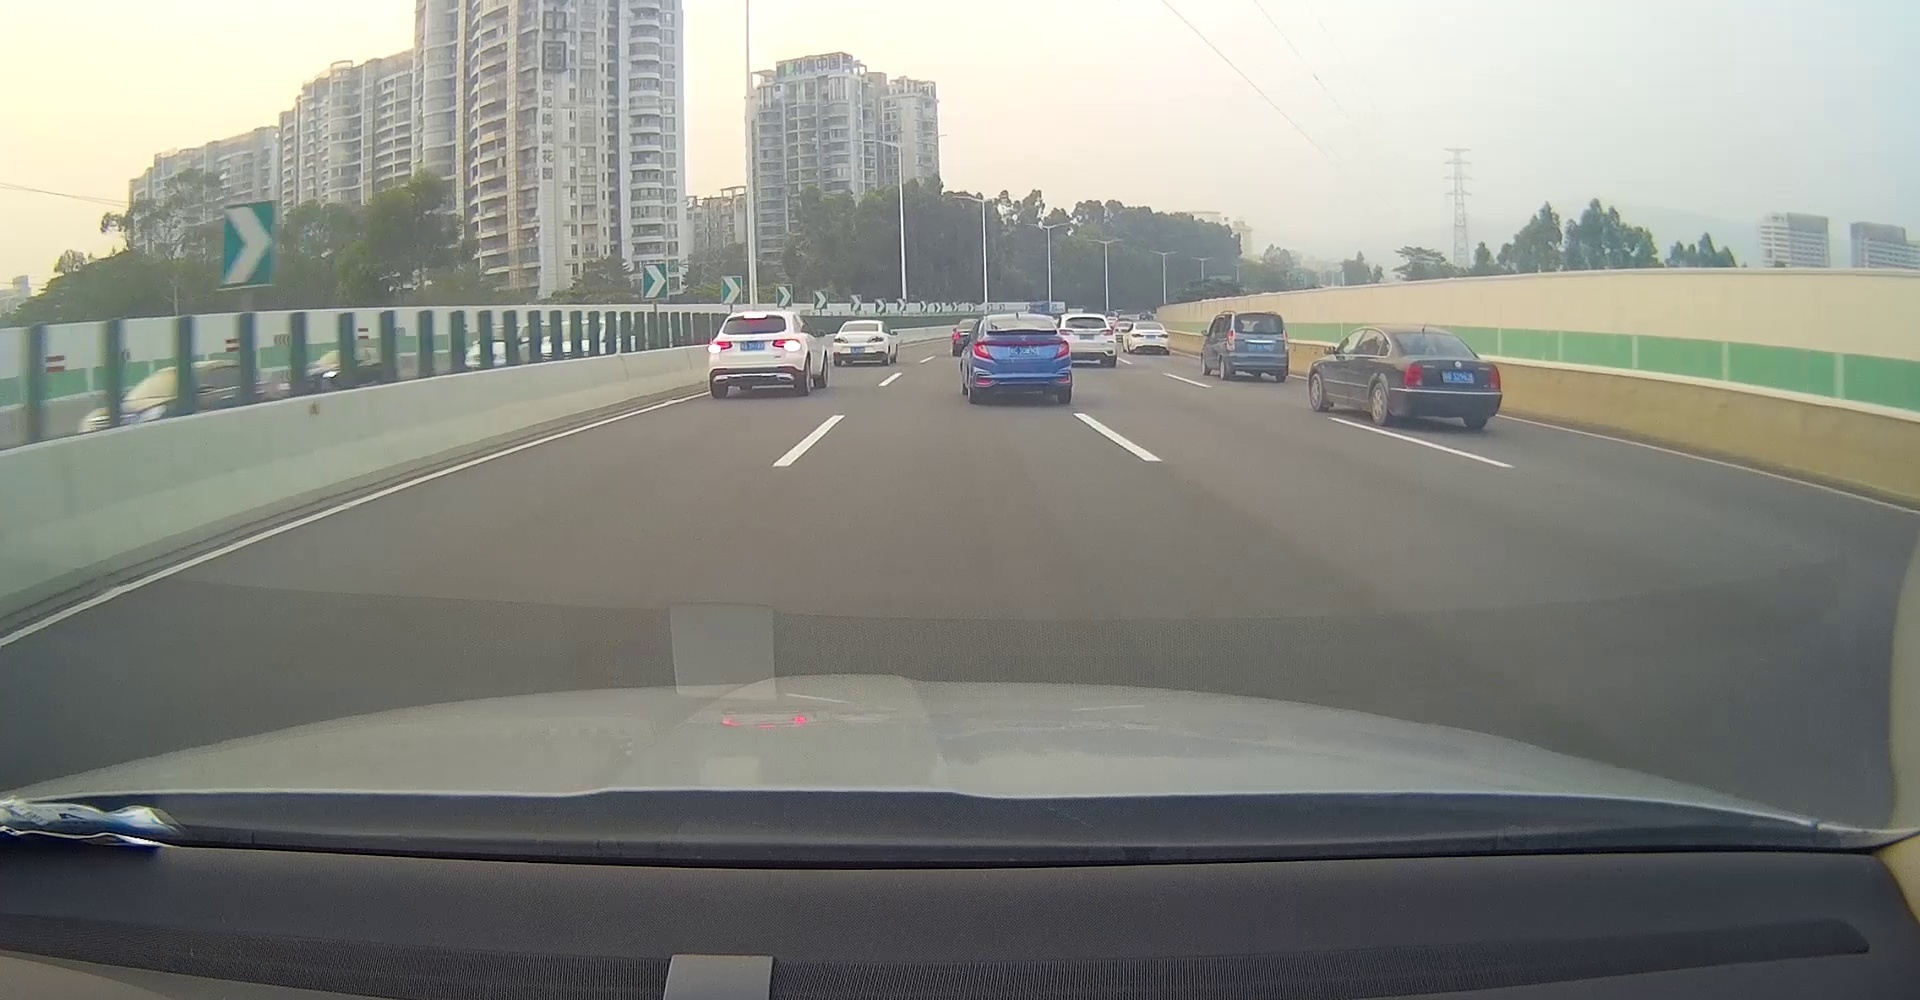L_light: (1403, 362, 1423, 387), (974, 343, 993, 360), (709, 340, 731, 353), (1225, 327, 1236, 350), (834, 338, 850, 344)
R_light: (772, 338, 803, 352), (1488, 364, 1501, 390), (1054, 340, 1070, 359), (1283, 330, 1289, 350), (867, 335, 884, 343)
T_light: (744, 313, 766, 319), (1420, 332, 1432, 338), (1015, 319, 1025, 321), (1255, 313, 1265, 316), (857, 324, 865, 326)
day-brake: (707, 310, 805, 398)
day-no: (1394, 326, 1503, 430), (971, 313, 1072, 404), (1225, 310, 1289, 382), (833, 320, 888, 365)
